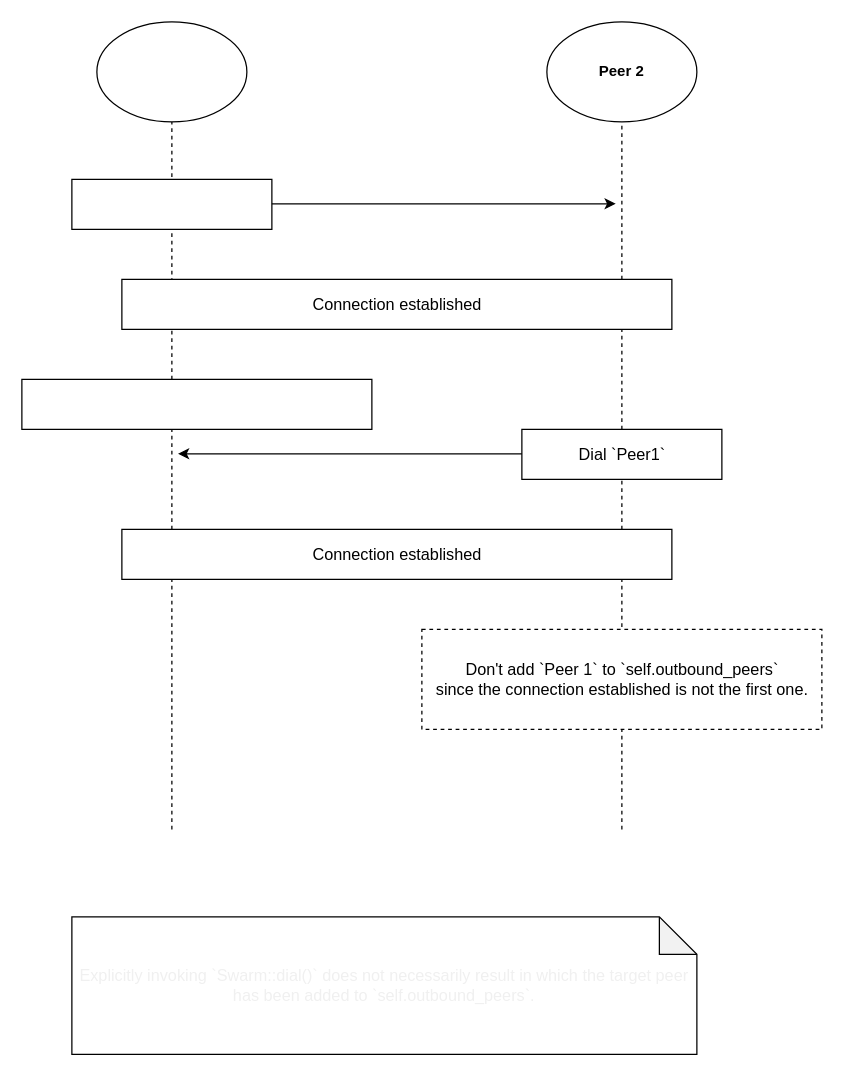
Image size: 844x1076. Some labels were removed from this diagram. Here are the shapes that lost their labels. From the top down, the centre of each, then its label:
At (x=171, y=71): "Peer 1".
At (x=171, y=203): "Dial `Peer2`".
At (x=196, y=403): "Add `Peer 2` to `self.outbound_peers`".
